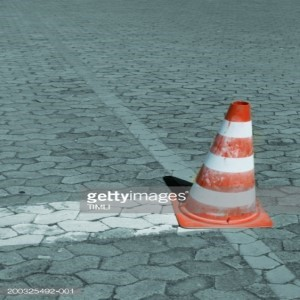traffic cone: (173, 101, 272, 228)
